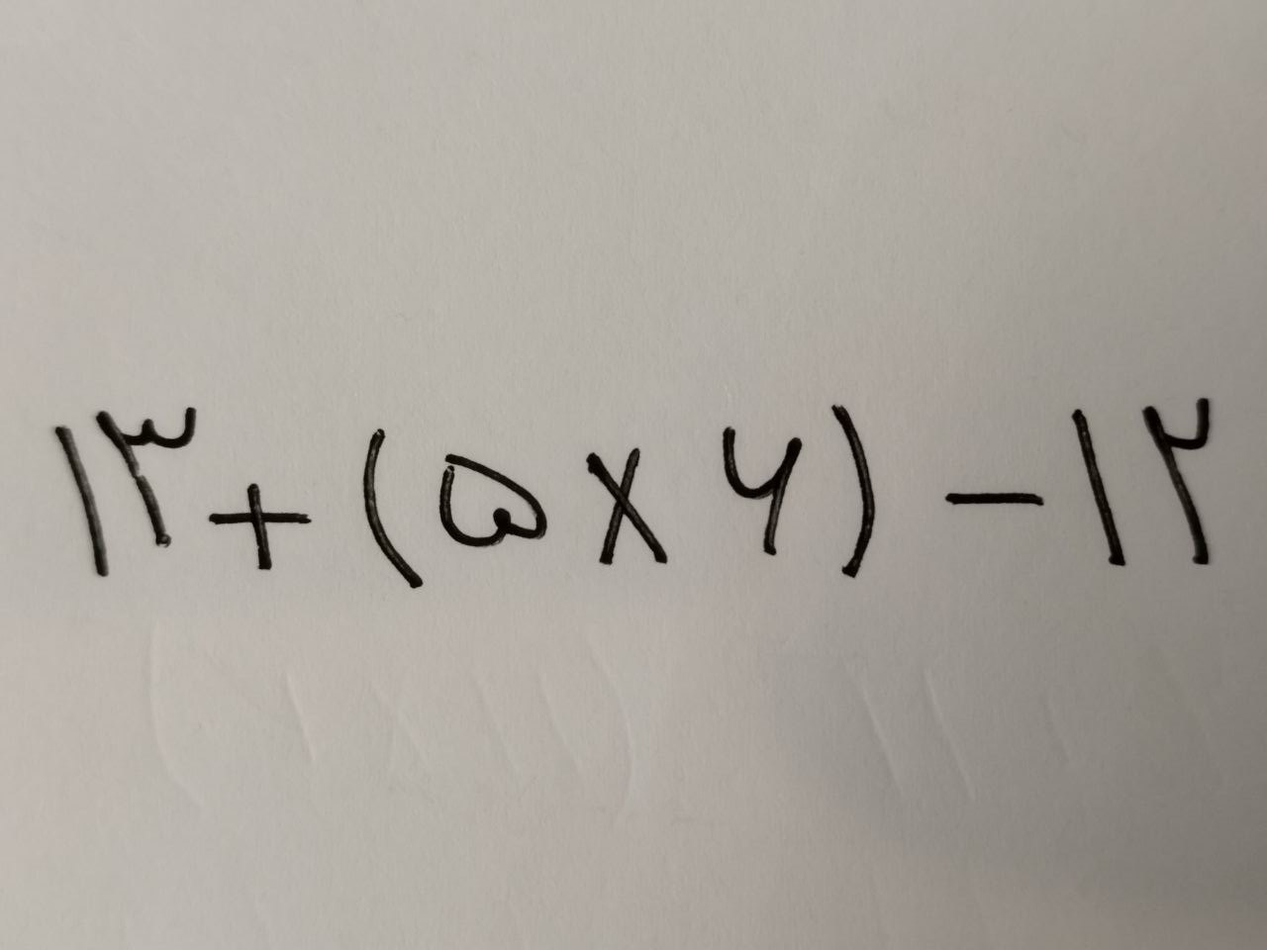character: (125, 306, 265, 411), (1102, 302, 1192, 434), (584, 339, 732, 412), (962, 319, 1072, 416), (480, 320, 566, 442), (778, 336, 891, 424), (67, 317, 150, 434), (279, 362, 416, 427), (1256, 366, 1267, 381)
